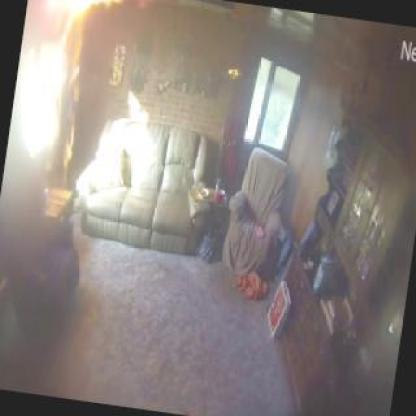Fire: (6, 0, 94, 174)
